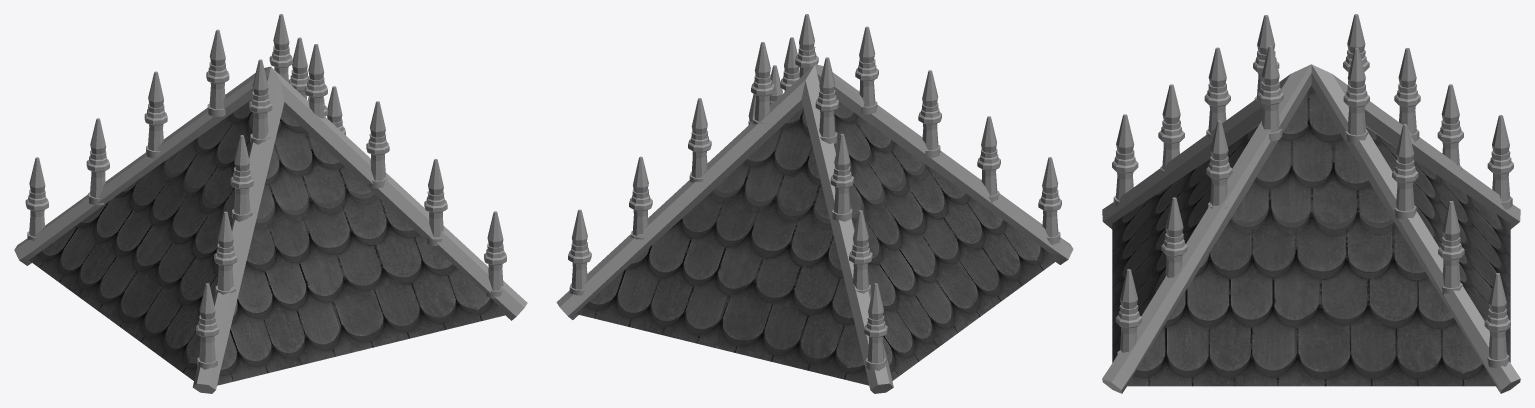
Rendered from SM_Roof_A_004.FBX.
The picture shows the model from 3 angles, left to right: view 1: azimuth 30°, elevation 25°; view 2: azimuth 150°, elevation 25°; view 3: azimuth 270°, elevation 25°; orthographic projection. The views are drawn at different scales.
Visible parts, largest first — view 1: SM_Roof_A_004; view 2: SM_Roof_A_004; view 3: SM_Roof_A_004.
Part boxes in pixels (x1,y1,x2,y2): SM_Roof_A_004: [14, 14, 527, 393]; SM_Roof_A_004: [556, 14, 1073, 393]; SM_Roof_A_004: [1102, 14, 1520, 393].
Size of the model in its own units: 315 by 231 by 315.
